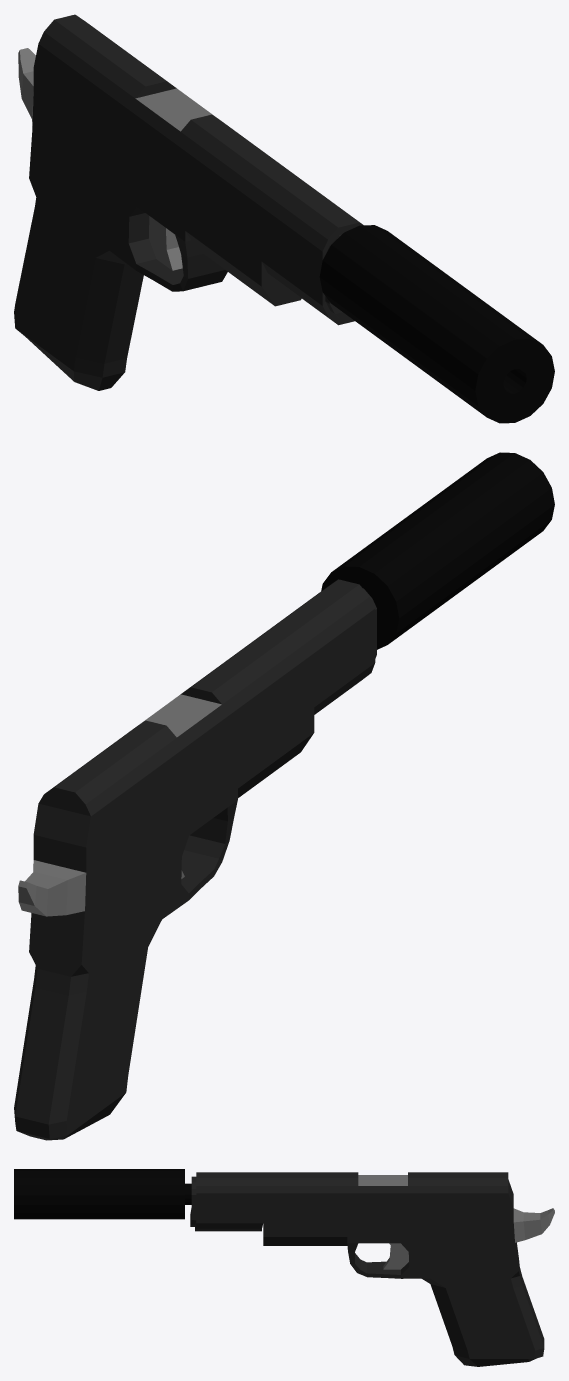
Rendered from 1911 Pistol.fbx.
3 renders of one model, top to bottom at view 1: azimuth 30°, elevation 25°; view 2: azimuth 150°, elevation 25°; view 3: azimuth 270°, elevation 25°, orthographic. The views are drawn at different scales.
Parts seen in each view (by area): view 1: Cube; view 2: Cube; view 3: Cube.
Boxes of the visible parts, <box> form: Cube: <box>14,14,554,423</box>; Cube: <box>14,452,554,1140</box>; Cube: <box>14,1169,554,1366</box>.
Bounding box in the file's own units: 3.63 × 15.22 × 38.82.
